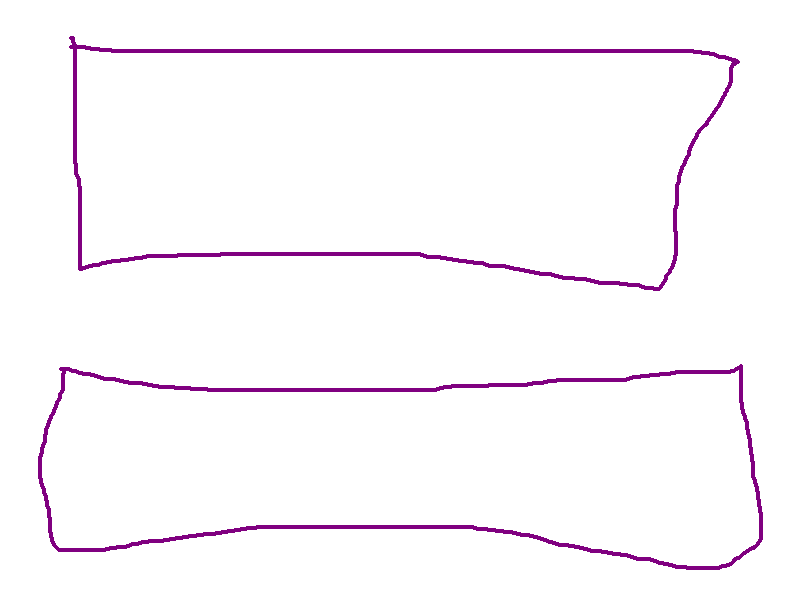rect: (63, 32, 740, 293), (34, 358, 769, 575)
